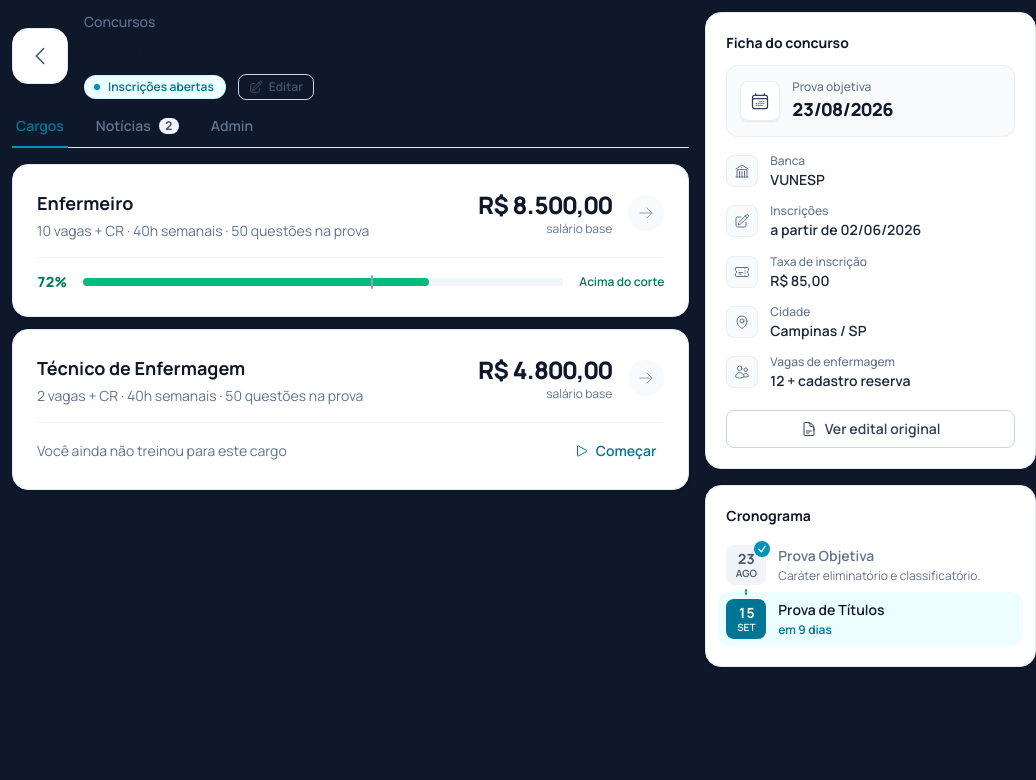
Test case: página do concurso (nível 1) › aba Admin deixa colar o link na mão quando a busca erra
This screenshot has width=1036, height=780.
Click the tab "Admin" at (232, 132), box [207,116,257,148]
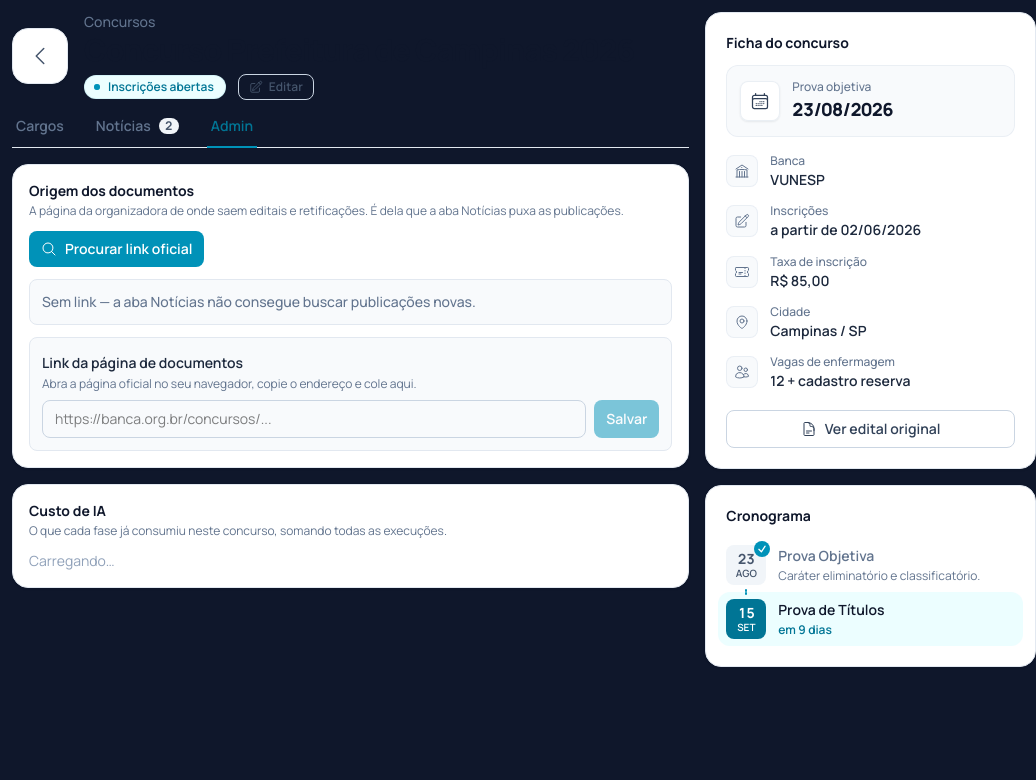
Note: Sem link salvo, o campo já vem aberto — é a saída, não um plano B oculto.
Type "https://banca.org.br/mondai" into the field labelled "Link da página de documentos" at (314, 419), box [42,400,586,438]
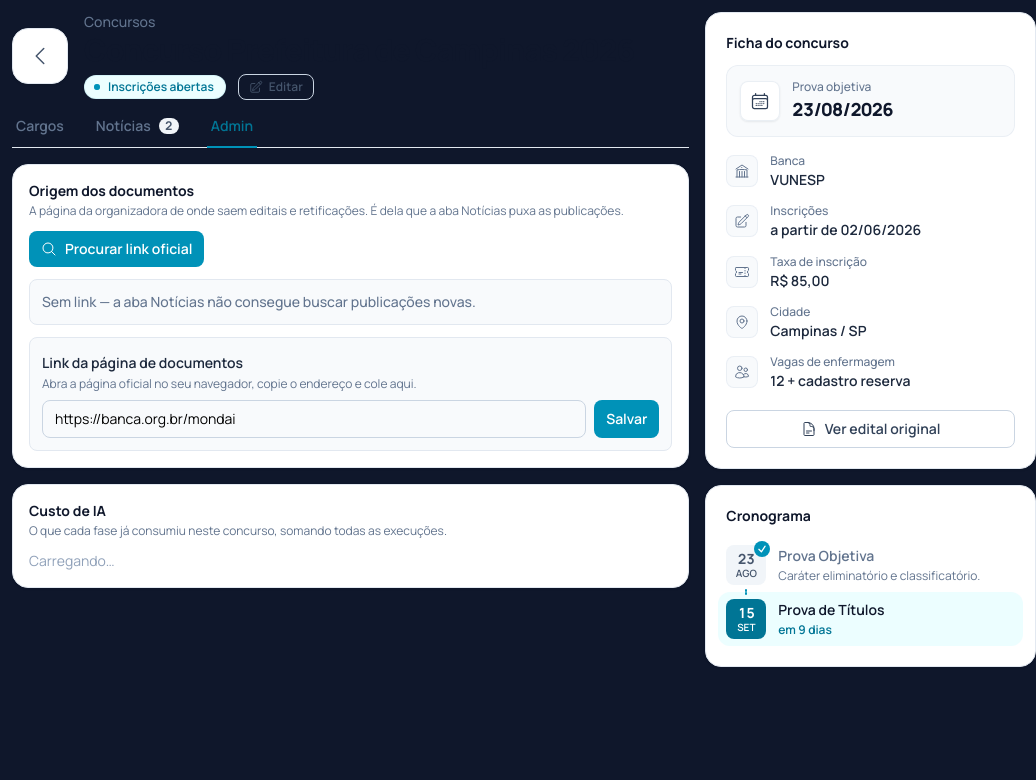
Click the button "Salvar" at (627, 419), box [594,400,659,438]
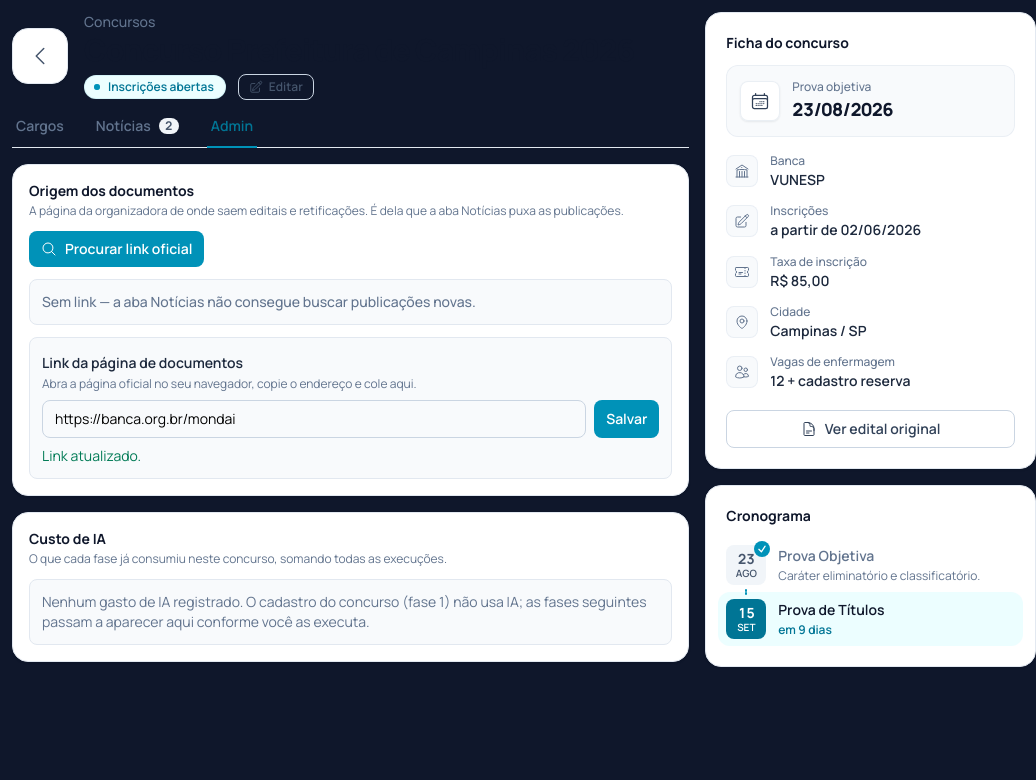
Expected: the text "Link atualizado." is shown, [42,446,141,465]
